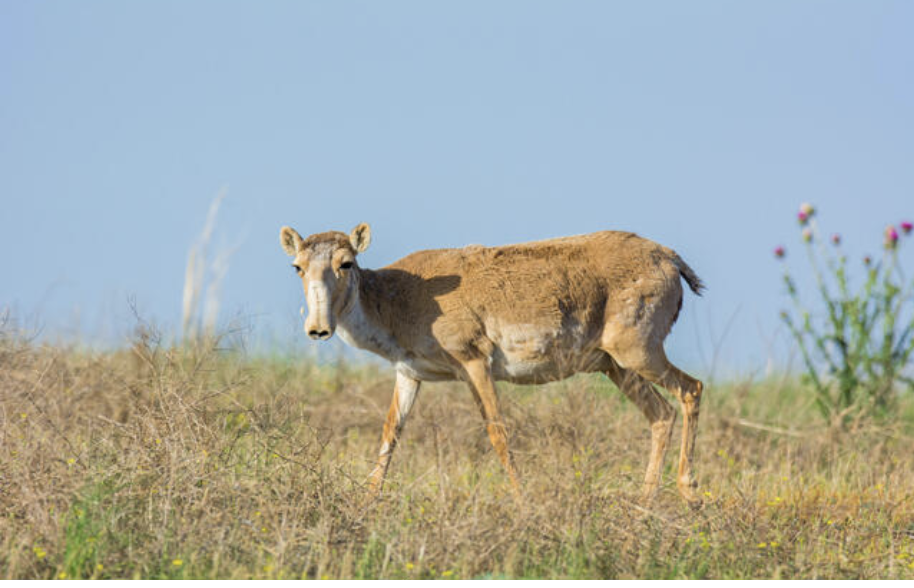saiga: (274, 220, 716, 522)
